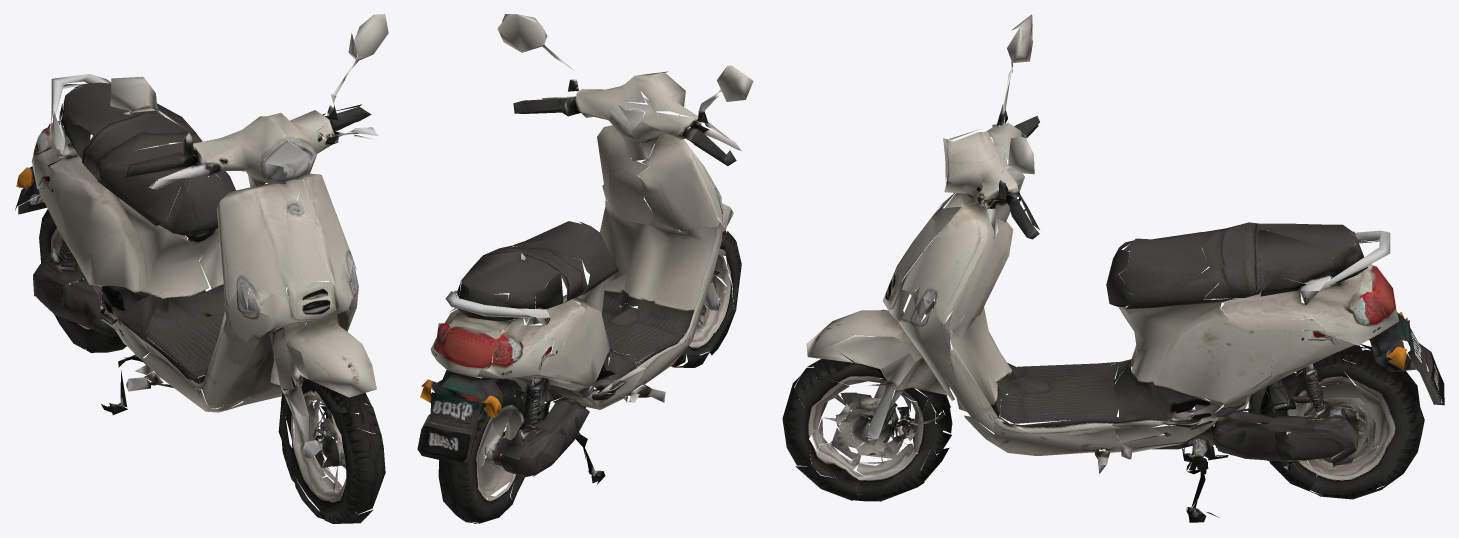
Rendered from scooter.glb.
3 renders of one model, left to right at view 1: azimuth 30°, elevation 25°; view 2: azimuth 150°, elevation 25°; view 3: azimuth 270°, elevation 25°, orthographic. The views are drawn at different scales.
Visible parts, largest first — view 1: tripo_node_93dc42da-a56b-4ea5-8246-98c0214d80d4; view 2: tripo_node_93dc42da-a56b-4ea5-8246-98c0214d80d4; view 3: tripo_node_93dc42da-a56b-4ea5-8246-98c0214d80d4.
Boxes of the visible parts, <box> form: tripo_node_93dc42da-a56b-4ea5-8246-98c0214d80d4: <box>15,14,388,523</box>; tripo_node_93dc42da-a56b-4ea5-8246-98c0214d80d4: <box>417,14,753,523</box>; tripo_node_93dc42da-a56b-4ea5-8246-98c0214d80d4: <box>782,14,1444,522</box>.
Size of the model in its own units: 0.8412 by 1.2 by 1.71.
1 material, 1 textured.
